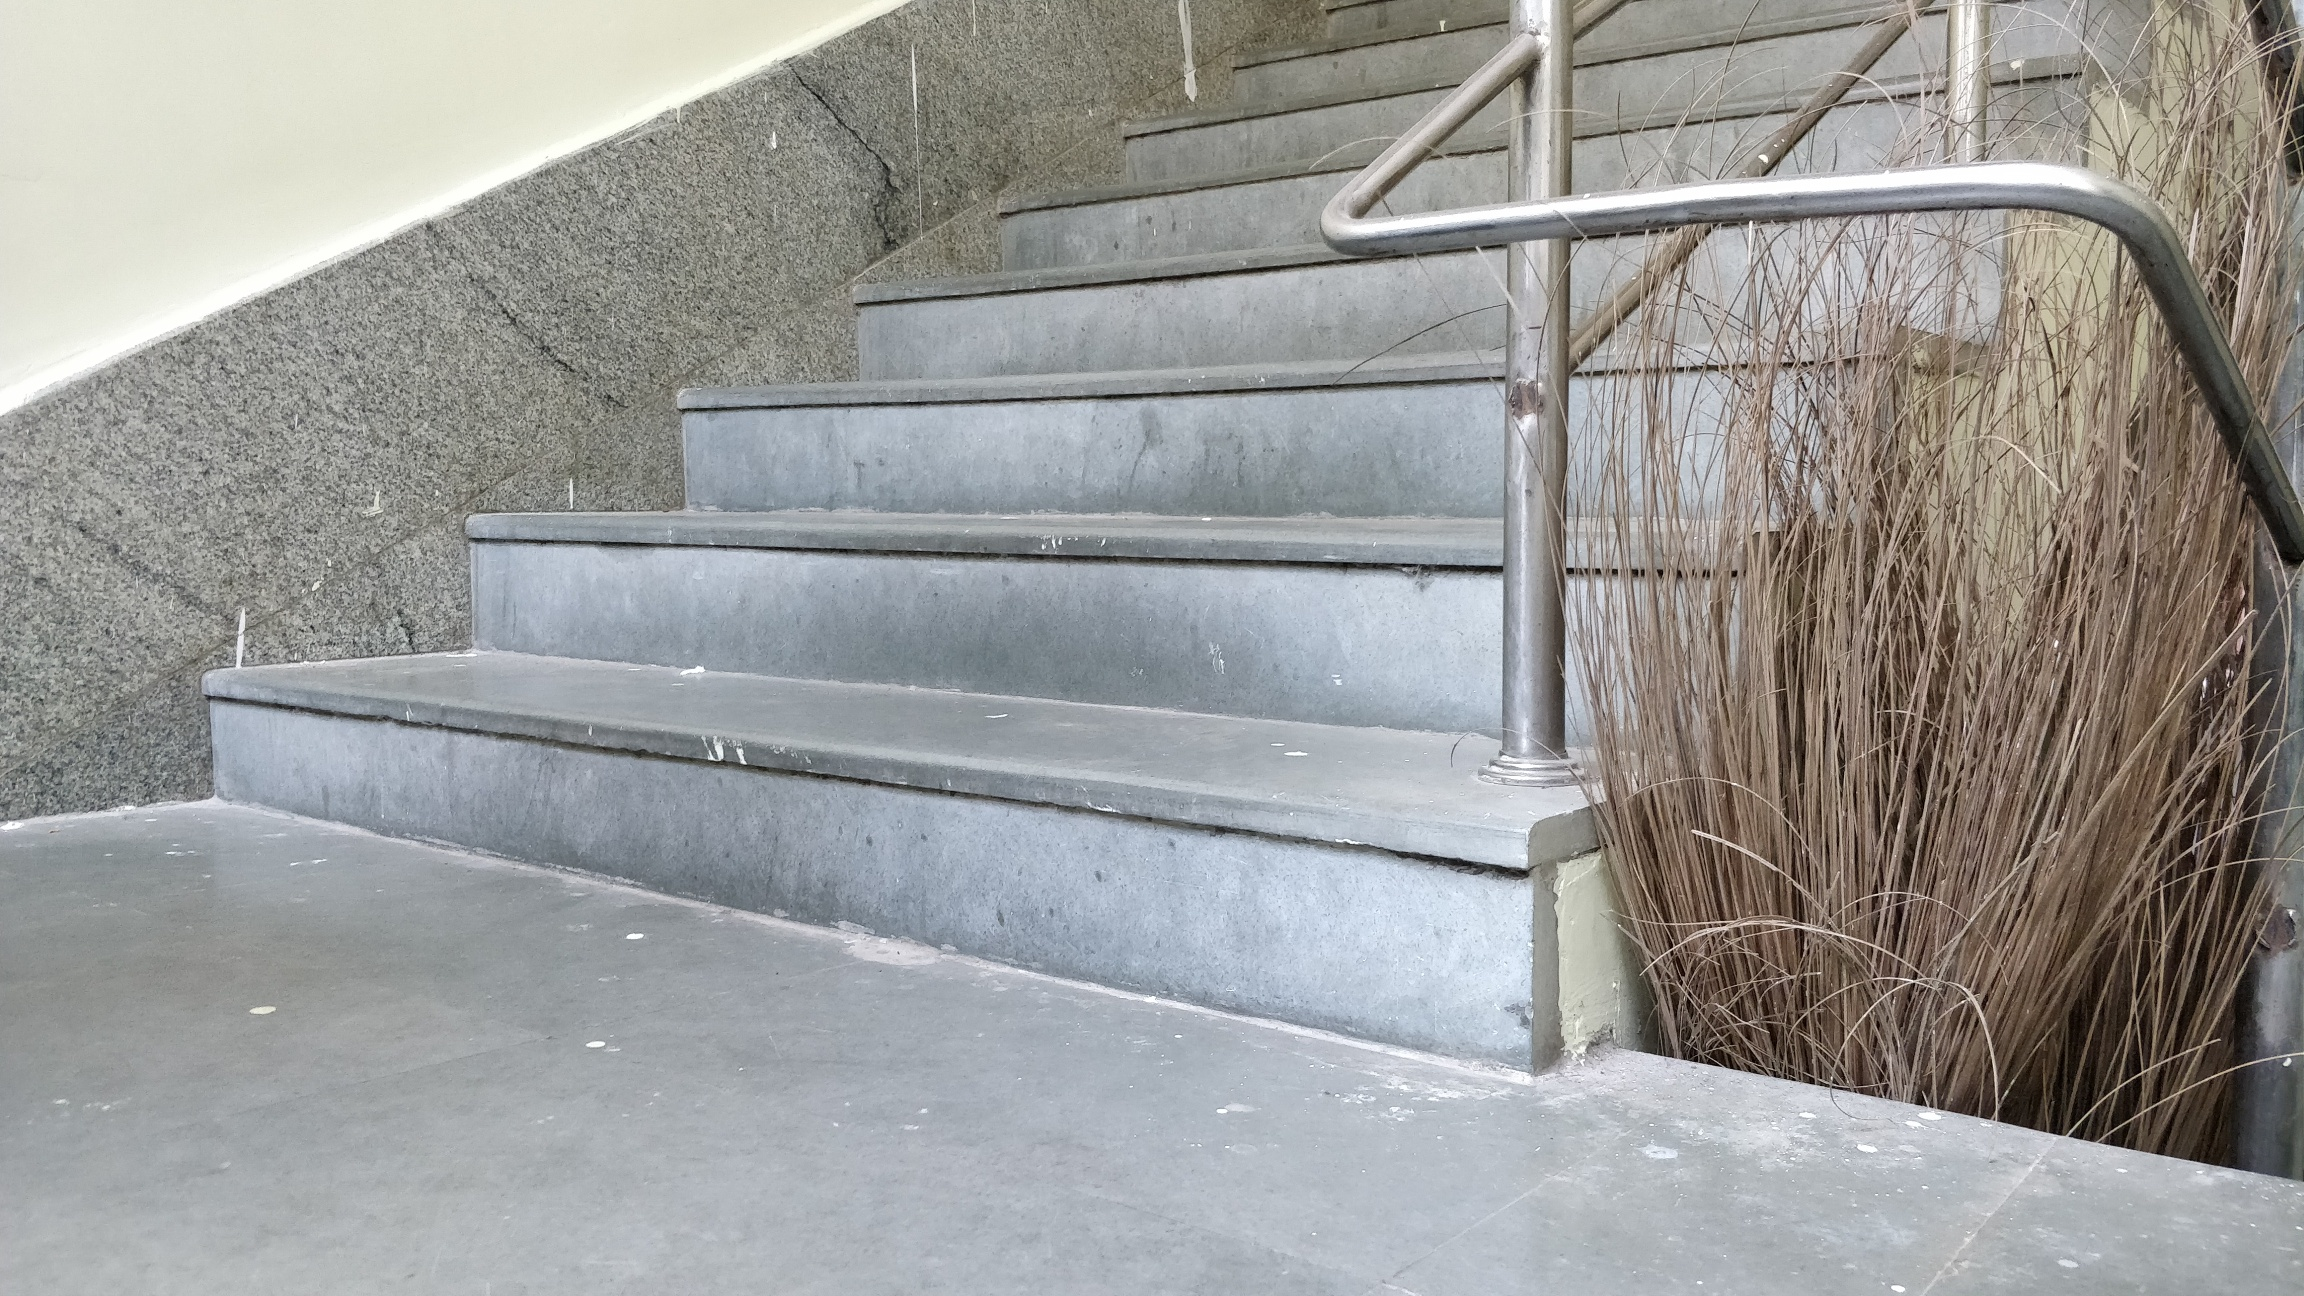stairs_up: (241, 19, 1832, 1003)
